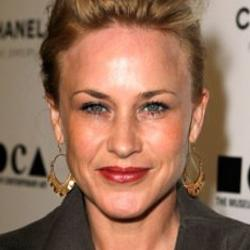face: (31, 1, 226, 232)
